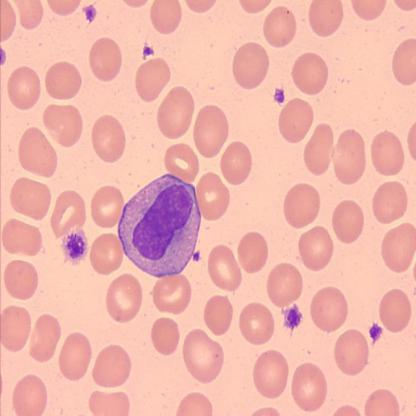Monocyte: (115, 170, 203, 278)
